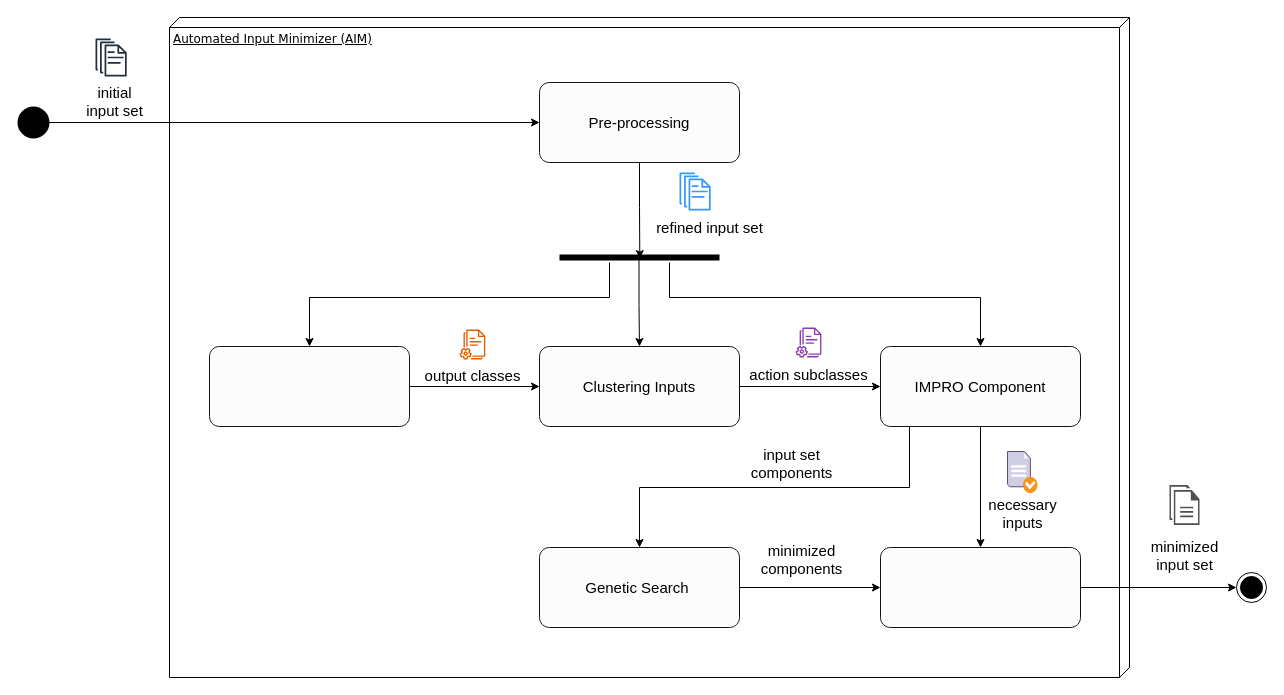
The diagram is 1284 pixels wide and 695 high, and some of its shapes have lost their labels. Each missing label, with the centre of its shape:
"Clustering Outputs" goes at pixel 309 386.
"Post-processing" goes at pixel 980 587.
